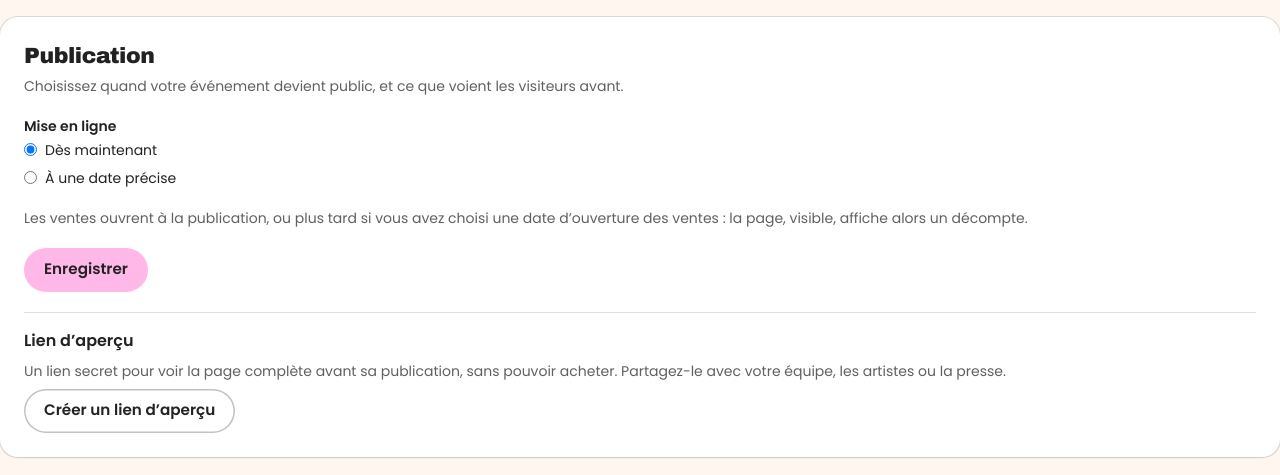
Test: mise en ligne d'un événement (RG-PRG-01 à 03) › refus : erreur traduite si elle est connue, sinon message générique
Click the button "Enregistrer": x=86, y=270 [24,248,148,292]
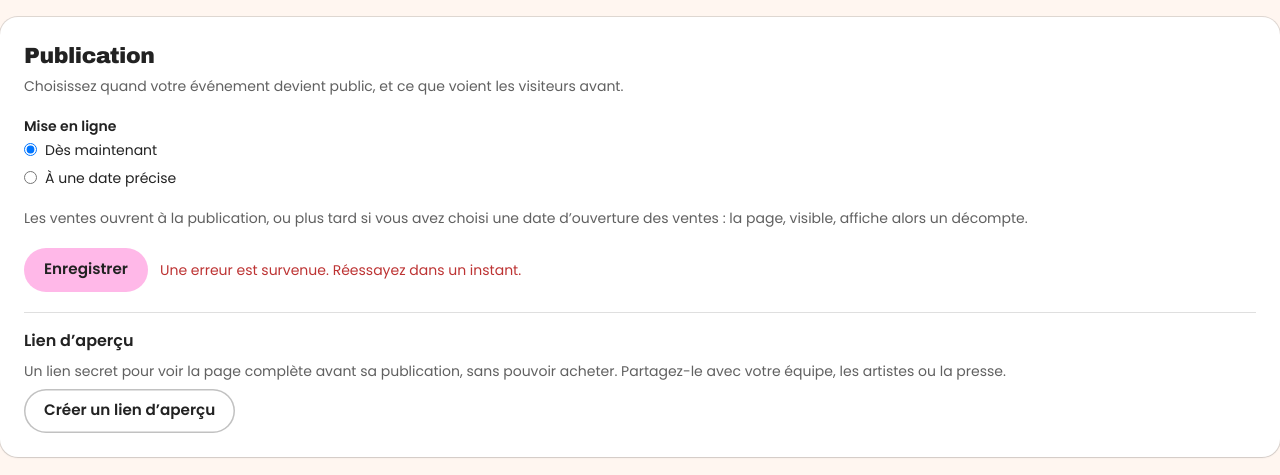
Now the message reads "Une erreur est survenue. Réessayez dans un instant.", box [160,260,521,280]
Click the button "Enregistrer": x=86, y=270 [24,248,148,292]
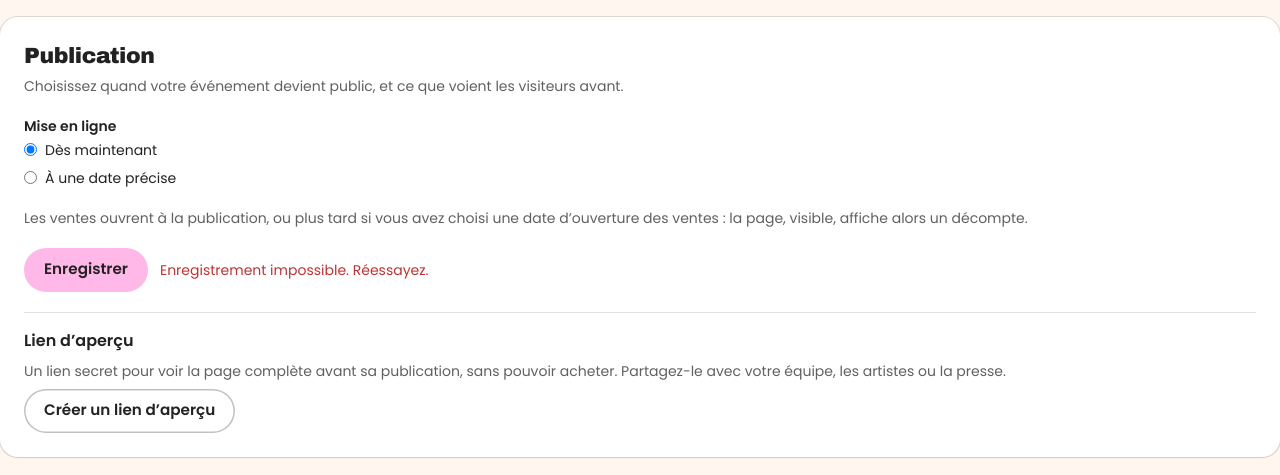
Now the message reads "Enregistrement impossible. Réessayez.", box [160,260,429,280]
